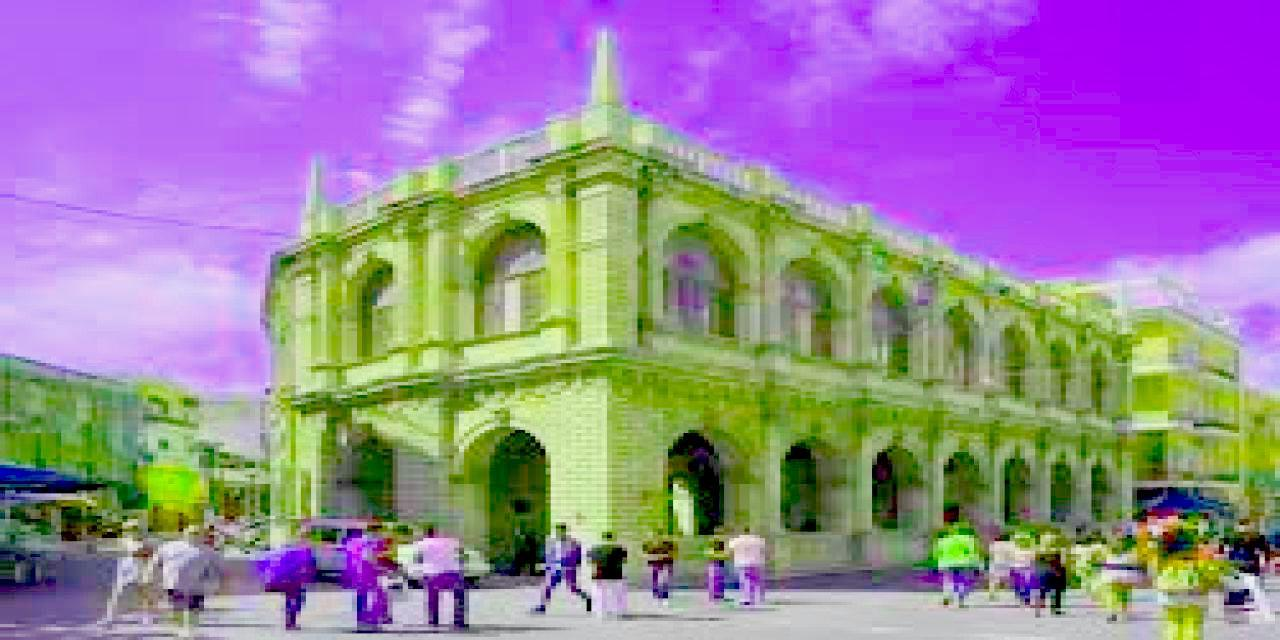Loggia: (260, 23, 1131, 577)
